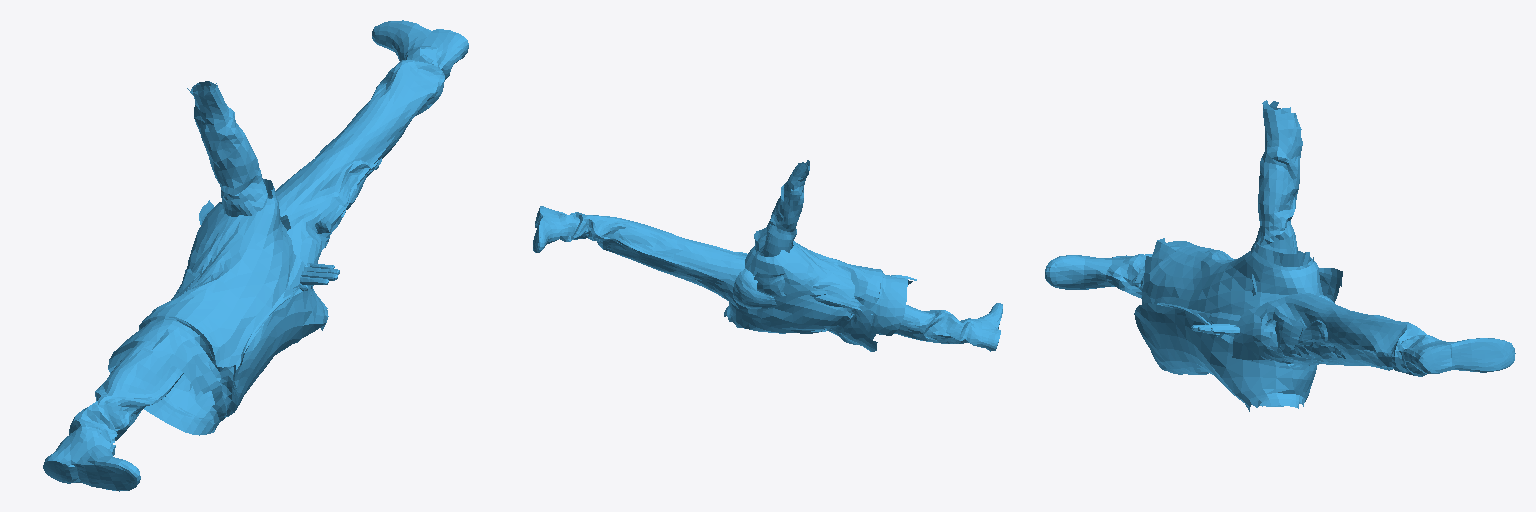
--- Facts derived from the render (not from the file) ---
Views: 3 orthographic renders of the robot side by side, from view 1: azimuth 30°, elevation 25°; view 2: azimuth 150°, elevation 25°; view 3: azimuth 270°, elevation 25°.
Model avatar_pia with 59 links and 58 joints (1 continuous, 57 fixed), rooted at root, posed every joint at zero.
Visible links, largest first — view 1: head; view 2: head; view 3: head.
Boxes of the visible links, x1,y1,x2,y2 form: head: (43,20,468,491); head: (533,160,1002,351); head: (1045,100,1515,411).
Size in the robot's own frame: 16.56 by 12.11 by 8.51 metres.
3 mesh visuals loaded from 6 distinct referenced files (3 OBJ); not drawn: 3 (reference not matched to a file when rendering).

The robot description file, URDF, robot "avatar_pia":
<?xml version="1.0" encoding="UTF-8"?>
<robot xmlns:xacro="http://ros.org/wiki/xacro" name="avatar_pia">

<link name="root">
<visual>
    <geometry>
      <mesh filename="package://iai_avatar_description/MetaHuman/pia/meshes/feet.obj"/>
    </geometry>
  </visual>
</link>

<link name="pelvis">
  <visual>
    <geometry>
      <mesh filename="package://iai_avatar_description/MetaHuman/pia/meshes/legs.obj"/>
    </geometry>
  </visual>
</link>

<link name="spine_01">
  <!-- visual>
    <geometry>
      < mesh filename="package://iai_avatar_description/MetaHuman/pia/meshes/spine_01.dae" scale="1 1 1"/>
    </geometry>
  </visual -->
</link>

<link name="spine_02">
  <!-- visual>
    <geometry>
      <mesh filename="package://iai_avatar_description/MetaHuman/pia/meshes/spine_02.dae" scale="1 1 1"/>
    </geometry>
  </visual -->
</link>

<link name="spine_03">
  <!-- visual>
    <geometry>
      <mesh filename="package://iai_avatar_description/MetaHuman/pia/meshes/torso.obj"/>
    </geometry>
  </visual -->
</link>

<link name="spine_04">
  <visual>
    <geometry>
      <mesh filename="package://iai_avatar_description/MetaHuman/pia/meshes/torso.obj"/>
    </geometry>
  </visual>
</link>

<link name="spine_05">
  <!-- visual>
    <geometry>
      <mesh filename="package://iai_avatar_description/MetaHuman/pia/meshes/torso.obj"/>
    </geometry>
  </visual -->
</link>

<link name="neck_01">
  <!-- visual>
    <geometry>
      <mesh filename="package://iai_avatar_description/MetaHuman/pia/meshes/neck_01.dae" scale="1 1 1"/>
    </geometry>
  </visual -->
</link>

<link name="neck_02">
  <!-- visual>
    <geometry>
      <mesh filename="package://iai_avatar_description/MetaHuman/pia/meshes/neck_01.dae" scale="1 1 1"/>
    </geometry>
  </visual -->
</link>

<link name="head">
  <visual>
    <geometry>
      <mesh filename="package://iai_avatar_description/MetaHuman/pia/meshes/head.obj"/>
    </geometry>
  </visual>
</link>

<link name="jaw">
  <!-- visual>
    <geometry>
      <mesh filename="package://iai_avatar_description/MetaHuman/pia/meshes/jaw.dae" scale="1 1 1"/>
    </geometry>
  </visual -->
</link>


<link name="eye_l">
  <!-- visual>
    <geometry>
      <mesh filename="package://iai_avatar_description/MetaHuman/pia/meshes/eye_l.dae" scale="1 1 1"/>
    </geometry>
  </visual -->
</link>

<link name="eye_r">
  <!-- visual>
    <geometry>
      <mesh filename="package://iai_avatar_description/MetaHuman/pia/meshes/eye_r.dae" scale="1 1 1"/>
    </geometry>
  </visual -->
</link>

<link name="clavicle_l"/>


<link name="upperarm_l">
 <!-- visual>
    <geometry>
      <mesh filename="package://iai_avatar_description/MetaHuman/pia/meshes_simple/arm_l.dae" scale="1 1 1"/>
    </geometry>
  </visual -->
</link>

<link name="lowerarm_l">
  <!-- visual>
    <geometry>
      <mesh filename="package://iai_avatar_description/MetaHuman/pia/meshes/lowerarm_l.dae" scale="1 1 1"/>
    </geometry>
  </visual -->
</link>

<link name="hand_l">
  <visual>
    <geometry>
      <mesh filename="package://iai_avatar_description/MetaHuman/pia/meshes/hand_l.obj"/>
    </geometry>
  </visual>
</link>

<link name="thumb_01_l">
  <!-- visual>
    <geometry>
      <mesh filename="package://iai_avatar_description/MetaHuman/pia/meshes/thumb_01_l.dae" scale="1 1 1"/>
    </geometry>
  </visual -->
</link>

<link name="thumb_02_l">
  <!-- visual>
    <geometry>
      <mesh filename="package://iai_avatar_description/MetaHuman/pia/meshes/thumb_02_l.dae" scale="1 1 1"/>
    </geometry>
  </visual -->
</link>

<link name="thumb_03_l">
  <!-- visual>
    <geometry>
      <mesh filename="package://iai_avatar_description/MetaHuman/pia/meshes/thumb_03_l.dae" scale="1 1 1"/>
    </geometry>
  </visual -->
</link>

<link name="index_01_l">
  <!-- visual>
    <geometry>
      <mesh filename="package://iai_avatar_description/MetaHuman/pia/meshes/index_01_l.dae" scale="1 1 1"/>
    </geometry>
  </visual -->
</link>

<link name="index_02_l">
  <!-- visual>
    <geometry>
      <mesh filename="package://iai_avatar_description/MetaHuman/pia/meshes/index_02_l.dae" scale="1 1 1"/>
    </geometry>
  </visual -->
</link>

<link name="index_03_l">
  <!-- visual>
    <geometry>
      <mesh filename="package://iai_avatar_description/MetaHuman/pia/meshes/index_03_l.dae" scale="1 1 1"/>
    </geometry>
  </visual -->
</link>

<link name="middle_01_l">
  <!-- visual>
    <geometry>
      <mesh filename="package://iai_avatar_description/MetaHuman/pia/meshes/middle_01_l.dae" scale="1 1 1"/>
    </geometry>
  </visual -->
</link>

<link name="middle_02_l">
  <!-- visual>
    <geometry>
      <mesh filename="package://iai_avatar_description/MetaHuman/pia/meshes/middle_02_l.dae" scale="1 1 1"/>
    </geometry>
  </visual -->
</link>

<link name="middle_03_l">
  <!-- visual>
    <geometry>
      <mesh filename="package://iai_avatar_description/MetaHuman/pia/meshes/middle_03_l.dae" scale="1 1 1"/>
    </geometry>
  </visual -->
</link>

<link name="ring_01_l">
  <!-- visual>
    <geometry>
      <mesh filename="package://iai_avatar_description/MetaHuman/pia/meshes/ring_01_l.dae" scale="1 1 1"/>
    </geometry>
  </visual -->
</link>

<link name="ring_02_l">
  <!-- visual>
    <geometry>
      <mesh filename="package://iai_avatar_description/MetaHuman/pia/meshes/ring_02_l.dae" scale="1 1 1"/>
    </geometry>
  </visual -->
</link>

<link name="ring_03_l">
  <!-- visual>
    <geometry>
      <mesh filename="package://iai_avatar_description/MetaHuman/pia/meshes/ring_03_l.dae" scale="1 1 1"/>
    </geometry>
  </visual -->
</link>

<link name="pinky_01_l">
  <!-- visual>
    <geometry>
      <mesh filename="package://iai_avatar_description/MetaHuman/pia/meshes/pinky_01_l.dae" scale="1 1 1"/>
    </geometry>
  </visual -->
</link>

<link name="pinky_02_l">
  <!-- visual>
    <geometry>
      <mesh filename="package://iai_avatar_description/MetaHuman/pia/meshes/pinky_02_l.dae" scale="1 1 1"/>
    </geometry>
  </visual -->
</link>

<link name="pinky_03_l">
  <!-- visual>
    <geometry>
      <mesh filename="package://iai_avatar_description/MetaHuman/pia/meshes/pinky_03_l.dae" scale="1 1 1"/>
    </geometry>
  </visual -->
</link>

<link name="clavicle_r"/>


<link name="upperarm_r">
  <!-- visual>
    <geometry>
      <mesh filename="package://iai_avatar_description/MetaHuman/pia/meshes_simple/arm_r.dae" scale="1 1 1"/>
    </geometry>
  </visual -->
</link>

<link name="lowerarm_r">
  <!-- visual>
    <geometry>
      <mesh filename="package://iai_avatar_description/MetaHuman/pia/meshes/lowerarm_r.dae" scale="1 1 1"/>
    </geometry>
  </visual -->
</link>

<link name="hand_r">
  <visual>
    <geometry>
      <mesh filename="package://iai_avatar_description/MetaHuman/pia/meshes/hand_r.obj"/>
    </geometry>
  </visual>
</link>

<link name="thumb_01_r">
  <!-- visual>
    <geometry>
      <mesh filename="package://iai_avatar_description/MetaHuman/pia/meshes/thumb_01_r.dae" scale="1 1 1"/>
    </geometry>
  </visual -->
</link>

<link name="thumb_02_r">
  <!-- visual>
    <geometry>
      <mesh filename="package://iai_avatar_description/MetaHuman/pia/meshes/thumb_02_r.dae" scale="1 1 1"/>
    </geometry>
  </visual -->
</link>

<link name="thumb_03_r">
  <!-- visual>
    <geometry>
      <mesh filename="package://iai_avatar_description/MetaHuman/pia/meshes/thumb_03_r.dae" scale="1 1 1"/>
    </geometry>
  </visual -->
</link>

<link name="index_01_r">
  <!-- visual>
    <geometry>
      <mesh filename="package://iai_avatar_description/MetaHuman/pia/meshes/index_01_r.dae" scale="1 1 1"/>
    </geometry>
  </visual -->
</link>

<link name="index_02_r">
  <!-- visual>
    <geometry>
      <mesh filename="package://iai_avatar_description/MetaHuman/pia/meshes/index_02_r.dae" scale="1 1 1"/>
    </geometry>
  </visual -->
</link>

<link name="index_03_r">
  <!-- visual>
    <geometry>
      <mesh filename="package://iai_avatar_description/MetaHuman/pia/meshes/index_03_r.dae" scale="1 1 1"/>
    </geometry>
  </visual -->
</link>

<link name="middle_01_r">
  <!-- visual>
    <geometry>
      <mesh filename="package://iai_avatar_description/MetaHuman/pia/meshes/middle_01_r.dae" scale="1 1 1"/>
    </geometry>
  </visual -->
</link>

<link name="middle_02_r">
  <!-- visual>
    <geometry>
      <mesh filename="package://iai_avatar_description/MetaHuman/pia/meshes/middle_02_r.dae" scale="1 1 1"/>
    </geometry>
  </visual -->
</link>

<link name="middle_03_r">
  <!-- visual>
    <geometry>
      <mesh filename="package://iai_avatar_description/MetaHuman/pia/meshes/middle_03_r.dae" scale="1 1 1"/>
    </geometry>
  </visual -->
</link>

<link name="ring_01_r">
  <!-- visual>
    <geometry>
      <mesh filename="package://iai_avatar_description/MetaHuman/pia/meshes/ring_01_r.dae" scale="1 1 1"/>
    </geometry>
  </visual -->
</link>

<link name="ring_02_r">
  <!-- visual>
    <geometry>
      <mesh filename="package://iai_avatar_description/MetaHuman/pia/meshes/ring_02_r.dae" scale="1 1 1"/>
    </geometry>
  </visual -->
</link>

<link name="ring_03_r">
  <!-- visual>
    <geometry>
      <mesh filename="package://iai_avatar_description/MetaHuman/pia/meshes/ring_03_r.dae" scale="1 1 1"/>
    </geometry>
  </visual -->
</link>

<link name="pinky_01_r">
  <!-- visual>
    <geometry>
      <mesh filename="package://iai_avatar_description/MetaHuman/pia/meshes/pinky_01_r.dae" scale="1 1 1"/>
    </geometry>
  </visual -->
</link>

<link name="pinky_02_r">
  <!-- visual>
    <geometry>
      <mesh filename="package://iai_avatar_description/MetaHuman/pia/meshes/pinky_02_r.dae" scale="1 1 1"/>
    </geometry>
  </visual -->
</link>

<link name="pinky_03_r">
  <!-- visual>
    <geometry>
      <mesh filename="package://iai_avatar_description/MetaHuman/pia/meshes/pinky_03_r.dae" scale="1 1 1"/>
    </geometry>
  </visual -->
</link>

<link name="thigh_l">
  <!-- visual>
    <geometry>
      <mesh filename="package://iai_avatar_description/MetaHuman/pia/meshes_simple/leg_l.dae" scale="1 1 1"/>
    </geometry>
  </visual -->
</link>

<link name="calf_l">
  <!-- visual>
    <geometry>
      <mesh filename="package://iai_avatar_description/MetaHuman/pia/meshes/calf_l.dae" scale="1 1 1"/>
    </geometry>
  </visual -->
</link>

<link name="foot_l">
  <!-- visual>
    <geometry>
      <mesh filename="package://iai_avatar_description/MetaHuman/pia/meshes/foot_l.dae" scale="1 1 1"/>
    </geometry>
  </visual -->
</link>

<link name="ball_l">
  <!-- visual>
    <geometry>
      <mesh filename="package://iai_avatar_description/MetaHuman/pia/meshes/ball_l.dae" scale="1 1 1"/>
    </geometry>
  </visual -->
</link>

<link name="thigh_r">
  <!-- visual>
    <geometry>
      <mesh filename="package://iai_avatar_description/MetaHuman/pia/meshes_simple/leg_r.dae" scale="1 1 1"/>
    </geometry>
  </visual -->
</link>

<link name="calf_r">
  <!-- visual>
    <geometry>
      <mesh filename="package://iai_avatar_description/MetaHuman/pia/meshes/calf_r.dae" scale="1 1 1"/>
    </geometry>
  </visual -->
</link>

<link name="foot_r">
  <!-- visual>
    <geometry>
      <mesh filename="package://iai_avatar_description/MetaHuman/pia/meshes/foot_r.dae" scale="1 1 1"/>
    </geometry>
  </visual -->
</link>

<link name="ball_r">
  <!-- visual>
    <geometry>
      <mesh filename="package://iai_avatar_description/MetaHuman/pia/meshes/ball_r.dae" scale="1 1 1"/>
    </geometry>
  </visual -->
</link>

<joint name="root_to_pelvis" type="fixed">
  <parent link="root"/>
  <child link="pelvis"/>
  <origin rpy="-0.008681337481024287 0.24583410449739423 0.2416461027967589" xyz="-0.00327410455793 0.101470641792 0.9128947258"/>
</joint>

<joint name="pelvis_to_spine_01" type="fixed">
  <parent link="pelvis"/>
  <child link="spine_01"/>
  <origin rpy="0.9887383711231866 0.0008396338430066877 0.01093147511109891" xyz="0.147955521941 -0.0129172177985 -5.01933818953e-08"/>
</joint>

<joint name="spine_01_to_spine_02" type="fixed">
  <parent link="spine_01"/>
  <child link="spine_02"/>
  <origin rpy="0.0101863592863 0.0216334611177 -0.0617595762014" xyz="0.14854696393 0.00522999512032 -0.00275869877078"/>
</joint>

<joint name="spine_02_to_spine_03" type="fixed">
  <parent link="spine_02"/>
  <child link="spine_03"/>
  <origin rpy="0.0133250057697 0.00721091032028 0.00288556516171" xyz="0.148347228765 0.0136523600668 -0.00273125316016"/>
</joint>

<joint name="spine_03_to_spine_04" type="fixed">
  <parent link="spine_03"/>
  <child link="spine_04"/>
  <origin rpy="0.0797079652548 0.0167903900146 -0.04035808146" xyz="0.148433417082 0.0128616830334 -0.00602402957156"/>
</joint>

<joint name="spine_04_to_spine_05" type="fixed">
  <parent link="spine_04"/>
  <child link="spine_05"/>
  <origin rpy="0.0681002438068 0.00491692125797 0.174194231629" xyz="0.0755760595202 -0.00537412054837 -0.00097730034031"/>
</joint>

<joint name="spine_05_to_neck_01" type="fixed">
  <parent link="spine_05"/>
  <child link="neck_01"/>
  <origin rpy="0.0681002438068 0.00491692125797 0.174194231629" xyz="0.0755760595202 -0.00537412054837 -0.00097730034031"/>
</joint>

<joint name="neck_01_to_neck_02" type="fixed">
  <parent link="neck_01"/>
  <child link="neck_02"/>
  <origin rpy="0.0681002438068 0.00491692125797 0.174194231629" xyz="0.0755760595202 -0.00537412054837 -0.00097730034031"/>
</joint>

<joint name="neck_02_to_head" type="fixed">
  <parent link="neck_02"/>
  <child link="head"/>
  <origin rpy="0.0681002438068 0.00491692125797 0.174194231629" xyz="0.0755760595202 -0.00537412054837 -0.00097730034031"/>
</joint>

<joint name="head_to_jaw" type="fixed">
  <parent link="head"/>
  <child link="jaw"/>
  <origin rpy="-0.00275090709329 0.00396323204041 0.821488857269" xyz="0.0288657043129 -0.0121722621843 3.51353719452e-08"/>
</joint>

<joint name="head_to_eye_l" type="fixed">
  <parent link="head"/>
  <child link="eye_l"/>
  <origin rpy="-0.0032028881833 0.00320288538933 0.707099378109" xyz="0.0858740881085 -0.0817408710718 -0.0245181284845"/>
</joint>

<joint name="head_to_eye_r" type="fixed">
  <parent link="head"/>
  <child link="eye_r"/>
  <origin rpy="-0.0032028881833 0.00320288538933 0.707099378109" xyz="0.0846187099814 -0.0787527486682 0.0338412448764"/>
</joint>

<joint name="spine_03_to_clavicle_l" type="fixed">
  <parent link="spine_03"/>
  <child link="clavicle_l"/>
  <origin rpy="0.0974436700344 0.725871682167 0.0150327533484" xyz="0.103866547346 -0.0124222813174 -0.0371810607612"/>
</joint>

<joint name="clavicle_l_to_upperarm_l" type="fixed">
  <parent link="clavicle_l"/>
  <child link="upperarm_l"/>
  <origin rpy="0.0238880813122 0.469722896814 -0.13654795289" xyz="0.128845497966 0.0631972700357 -0.0019424300408"/>
</joint>

<joint name="upperarm_l_to_lowerarm_l" type="fixed">
  <parent link="upperarm_l"/>
  <child link="lowerarm_l"/>
  <origin rpy="0.0525087714195 0.0642885118723 -0.37117087841" xyz="0.316744327545 -6.02320611165e-08 -1.00386763791e-07"/>
</joint>

<joint name="lowerarm_l_to_hand_l" type="fixed">
  <parent link="lowerarm_l"/>
  <child link="hand_l"/>
  <origin rpy="-0.682704508305 0.0338224470615 0.0665487647057" xyz="0.260644644499 -0.00279220775701 0.0317711681128"/>
</joint>

<joint name="hand_l_to_thumb_01_l" type="fixed">
  <parent link="hand_l"/>
  <child link="thumb_01_l"/>
  <origin rpy="0.611441016197 0.313807219267 0.0603033602238" xyz="0.0329053997993 0.0152273988351 -0.0158482436091"/>
</joint>

<joint name="thumb_01_l_to_thumb_02_l" type="fixed">
  <parent link="thumb_01_l"/>
  <child link="thumb_02_l"/>
  <origin rpy="-0.0291809216142 -0.0589753165841 0.176548406482" xyz="0.0348868481815 -0.00664431368932 -0.000249965582043"/>
</joint>

<joint name="thumb_02_l_to_thumb_03_l" type="fixed">
  <parent link="thumb_02_l"/>
  <child link="thumb_03_l"/>
  <origin rpy="-0.0385916009545 -0.106679156423 0.233461141586" xyz="0.0338006056845 0.000655886076856 -0.003986062482"/>
</joint>

<joint name="hand_l_to_index_01_l" type="fixed">
  <parent link="hand_l"/>
  <child link="index_01_l"/>
  <origin rpy="0.00771836936474 -0.0044327378273 0.242288306355" xyz="0.0827859416604 0.00707902060822 -0.0148295462132"/>
</joint>

<joint name="index_01_l_to_index_02_l" type="fixed">
  <parent link="index_01_l"/>
  <child link="index_02_l"/>
  <origin rpy="-0.0260715186596 0.0330860614777 0.17588467896" xyz="0.0464779660106 0.00865559931844 0.00856142584234"/>
</joint>

<joint name="index_02_l_to_index_03_l" type="fixed">
  <parent link="index_02_l"/>
  <child link="index_03_l"/>
  <origin rpy="-0.012737095356 -0.0498520582914 0.298511624336" xyz="0.0261531509459 0.00554897869006 0.00700049940497"/>
</joint>


<joint name="hand_l_to_middle_01_l" type="fixed">
  <parent link="hand_l"/>
  <child link="middle_01_l"/>
  <origin rpy="-0.114225029945 -0.0887884199619 0.224270537496" xyz="0.0817409232259 0.00166174618062 0.00285550672561"/>
</joint>

<joint name="middle_01_l_to_middle_02_l" type="fixed">
  <parent link="middle_01_l"/>
  <child link="middle_02_l"/>
  <origin rpy="-0.0267782211304 -0.0351831614971 0.444231301546" xyz="0.054179802537 0.00698504969478 0.00796462129802"/>
</joint>

<joint name="middle_02_l_to_middle_03_l" type="fixed">
  <parent link="middle_02_l"/>
  <child link="middle_03_l"/>
  <origin rpy="-0.00474977493286 -0.0898506268859 0.434124171734" xyz="0.0308474171907 0.00533369462937 0.00483720051125"/>
</joint>

<joint name="hand_l_to_ring_01_l" type="fixed">
  <parent link="hand_l"/>
  <child link="ring_01_l"/>
  <origin rpy="0.15687417984 -0.0870417952538 0.298001915216" xyz="0.0794633105397 0.00343053950928 0.0188416931778"/>
</joint>

<joint name="ring_01_l_to_ring_02_l" type="fixed">
  <parent link="ring_01_l"/>
  <child link="ring_02_l"/>
  <origin rpy="0.109829843044 0.176648542285 0.473303318024" xyz="0.0459308698773 0.00583440391347 0.0059406333603"/>
</joint>

<joint name="ring_02_l_to_ring_03_l" type="fixed">
  <parent link="ring_02_l"/>
  <child link="ring_03_l"/>
  <origin rpy="0.126038849354 0.150590196252 0.458255201578" xyz="0.0305362995714 0.00580770382658 0.00400844030082"/>
</joint>


<joint name="hand_l_to_pinky_01_l" type="fixed">
  <parent link="hand_l"/>
  <child link="pinky_01_l"/>
  <origin rpy="0.115937769413 -0.0782990455627 0.21043650806" xyz="0.0766845270991 0.00671923812479 0.0343165248632"/>
</joint>

<joint name="pinky_01_l_to_pinky_02_l" type="fixed">
  <parent link="pinky_01_l"/>
  <child link="pinky_02_l"/>
  <origin rpy="0.16385397315 0.142290130258 0.569805145264" xyz="0.0332818292081 0.00181263627019 0.00576822692528"/>
</joint>

<joint name="pinky_02_l_to_pinky_03_l" type="fixed">
  <parent link="pinky_02_l"/>
  <child link="pinky_03_l"/>
  <origin rpy="0.0951744616032 0.0584980472922 0.342123389244" xyz="0.0243713185191 0.00191917608026 0.00376986619085"/>
</joint>

<joint name="spine_03_to_clavicle_r" type="fixed">
  <parent link="spine_03"/>
  <child link="clavicle_r"/>
  <origin rpy="0.676524996758 -0.0702666938305 -0.732984602451" xyz="0.109931521118 -0.0129764638841 0.0294459741563"/>
</joint>

<joint name="clavicle_r_to_upperarm_r" type="fixed">
  <parent link="clavicle_r"/>
  <child link="upperarm_r"/>
  <origin rpy="0.2090934515 0.451155275106 -0.327468305826" xyz="-0.120959401131 -0.0593282207847 0.00182377407327"/>
</joint>

<joint name="upperarm_r_to_lowerarm_r" type="fixed">
  <parent link="upperarm_r"/>
  <child link="lowerarm_r"/>
  <origin rpy="0.0522917807102 0.0732714235783 -0.29081004858" xyz="-0.312615782022 6.52513989507e-08 1.20464122233e-07"/>
</joint>

<joint name="lowerarm_r_to_hand_r" type="fixed">
  <parent link="lowerarm_r"/>
  <child link="hand_r"/>
  <origin rpy="-0.681485295296 0.0313351005316 0.0168783962727" xyz="-0.264317244291 0.00282993307337 -0.0322194173932"/>
</joint>

<joint name="hand_r_to_thumb_01_r" type="fixed">
  <parent link="hand_r"/>
  <child link="thumb_01_r"/>
  <origin rpy="0.590676188469 0.28290861845 0.0797851681709" xyz="-0.030471989885 -0.0141026144847 0.0146755771711"/>
</joint>

<joint name="thumb_01_r_to_thumb_02_r" type="fixed">
  <parent link="thumb_01_r"/>
  <child link="thumb_02_r"/>
  <origin rpy="0.0138554871082 -0.0319930240512 0.0931071341038" xyz="-0.0331278070807 0.00630997866392 0.000237981890677"/>
</joint>

<joint name="thumb_02_r_to_thumb_03_r" type="fixed">
  <parent link="thumb_02_r"/>
  <child link="thumb_03_r"/>
  <origin rpy="0.0285002291203 0.0322570949793 0.0601841211319" xyz="-0.0381597802043 -0.000740799121559 0.00449988711625"/>
</joint>

<joint name="hand_r_to_index_01_r" type="fixed">
  <parent link="hand_r"/>
  <child link="index_01_r"/>
  <origin rpy="-0.00179305672646 0.0380968153477 0.109652847052" xyz="-0.0746440142393 -0.00638558948413 0.0133704841137"/>
</joint>

<joint name="index_01_r_to_index_02_r" type="fixed">
  <parent link="index_01_r"/>
  <child link="index_02_r"/>
  <origin rpy="-0.0195376724005 0.0348911583424 0.13942784071" xyz="-0.0461209379137 -0.00858734082431 -0.00849635805935"/>
</joint>

<joint name="index_02_r_to_index_03_r" type="fixed">
  <parent link="index_02_r"/>
  <child link="index_03_r"/>
  <origin rpy="-0.00190701941028 -0.00745415687561 0.118991464376" xyz="-0.026513857767 -0.00562454015017 -0.00709709618241"/>
</joint>

<joint name="hand_r_to_middle_01_r" type="fixed">
  <parent link="hand_r"/>
  <child link="middle_01_r"/>
  <origin rpy="0.00177875161171 -0.00300064682961 0.0990440547466" xyz="-0.0746956765652 -0.00152014684863 -0.00260991067626"/>
</joint>

<joint name="middle_01_r_to_middle_02_r" type="fixed">
  <parent link="middle_01_r"/>
  <child link="middle_02_r"/>
  <origin rpy="-0.0035889223218 -0.00961992144585 0.197610989213" xyz="-0.0499358586967 -0.00644045136869 -0.00734136253595"/>
</joint>

<joint name="middle_02_r_to_middle_03_r" type="fixed">
  <parent link="middle_02_r"/>
  <child link="middle_03_r"/>
  <origin rpy="-0.00135524384677 -0.0256098210812 0.187287062407" xyz="-0.0314076542854 -0.00542965950444 -0.00492520071566"/>
</joint>

<joint name="hand_r_to_ring_01_r" type="fixed">
  <parent link="hand_r"/>
  <child link="ring_01_r"/>
  <origin rpy="0.0144565850496 -0.0914468169212 0.20148986578" xyz="-0.0715420246124 -0.00309038162231 -0.0169644355774"/>
</joint>

<joint name="ring_01_r_to_ring_02_r" type="fixed">
  <parent link="ring_01_r"/>
  <child link="ring_02_r"/>
  <origin rpy="0.0562543198466 0.0904833972454 0.287370175123" xyz="-0.0437484458089 -0.00555643765256 -0.00565891014412"/>
</joint>

<joint name="ring_02_r_to_ring_03_r" type="fixed">
  <parent link="ring_02_r"/>
  <child link="ring_03_r"/>
  <origin rpy="0.0240562856197 0.0287397801876 0.159290477633" xyz="-0.0316260233521 -0.00601406069472 -0.00415190402418"/>
</joint>

<joint name="hand_r_to_pinky_01_r" type="fixed">
  <parent link="hand_r"/>
  <child link="pinky_01_r"/>
  <origin rpy="0.0500981658697 -0.11131477356 0.161019995809" xyz="-0.0689982548356 -0.00604756362736 -0.0308774653822"/>
</joint>

<joint name="pinky_01_r_to_pinky_02_r" type="fixed">
  <parent link="pinky_01_r"/>
  <child link="pinky_02_r"/>
  <origin rpy="0.101563766599 0.0881986320019 0.389890015125" xyz="-0.0339500270784 -0.00184987974353 -0.00588408345357"/>
</joint>

<joint name="pinky_02_r_to_pinky_03_r" type="fixed">
  <parent link="pinky_02_r"/>
  <child link="pinky_03_r"/>
  <origin rpy="0.0375578030944 0.0230900347233 0.188641756773" xyz="-0.0241457615048 -0.00189881573897 -0.00373616511934"/>
</joint>

<joint name="pelvis_to_thigh_l" type="continuous">
  <parent link="pelvis"/>
  <child link="thigh_l"/>
  <origin rpy="0.140670761466 -0.0486810952425 0.172580957413" xyz="-0.0145145617425 -0.00518470583484 -0.0899454131722"/>
</joint>

<joint name="thigh_l_to_calf_l" type="fixed">
  <parent link="thigh_l"/>
  <child link="calf_l"/>
  <origin rpy="0.00360685586929 -0.0122226774693 -0.173642396927" xyz="-0.420130312443 1.00386763791e-07 1.60618839118e-07"/>
</joint>

<joint name="calf_l_to_foot_l" type="fixed">
  <parent link="calf_l"/>
  <child link="foot_l"/>
  <origin rpy="0.0182572603226 0.0458440929651 0.00348563492298" xyz="-0.421743512154 0.0208540670574 -0.0276844631881"/>
</joint>

<joint name="foot_l_to_ball_l" type="fixed">
  <parent link="foot_l"/>
  <child link="ball_l"/>
  <origin rpy="0.00174894742668 0.00172820687294 -0.702846229076" xyz="-0.124129585922 -0.143263533711 -0.00809520948678"/>
</joint>

<joint name="pelvis_to_thigh_r" type="fixed">
  <parent link="pelvis"/>
  <child link="thigh_r"/>
  <origin rpy="-0.0224179774523 -0.0360192358494 -0.997545480728" xyz="-0.0145128397271 -0.00518464576453 0.089945524931"/>
</joint>f

<joint name="thigh_r_to_calf_r" type="fixed">
  <parent link="thigh_r"/>
  <child link="calf_r"/>
  <origin rpy="-0.0120081305504 -0.012731730938 -0.216187998652" xyz="0.418992042542 8.03094195589e-08 -1.20464122233e-07"/>
</joint>

<joint name="calf_r_to_foot_r" type="fixed">
  <parent link="calf_r"/>
  <child link="foot_r"/>
  <origin rpy="0.0545608997345 0.045284897089 0.169531449676" xyz="0.419454842806 -0.0155709739774 0.0269763749093"/>
</joint>

<joint name="foot_r_to_ball_r" type="fixed">
  <parent link="foot_r"/>
  <child link="ball_r"/>
  <origin rpy="0.00124281644821 0.00121146440506 -0.697935938835" xyz="0.124294094741 0.143451243639 0.00810672342777"/>
</joint>

</robot>
